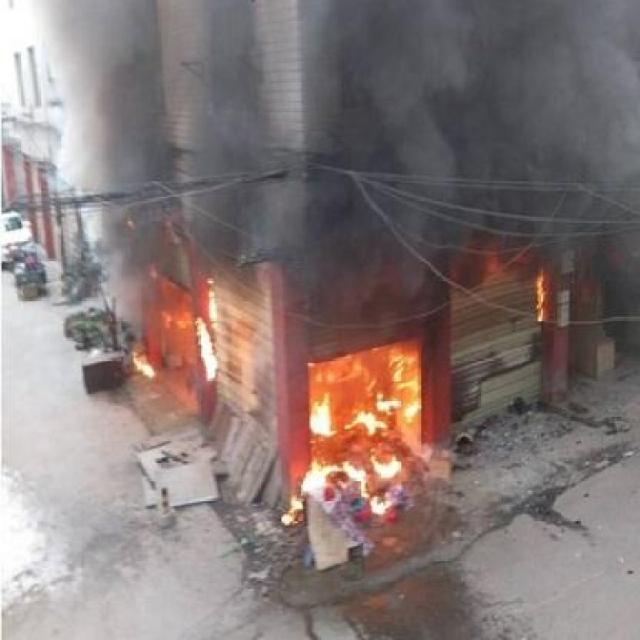Fire: (298, 352, 431, 540), (130, 254, 234, 406), (528, 256, 556, 337)
Smoke: (325, 2, 640, 243)
